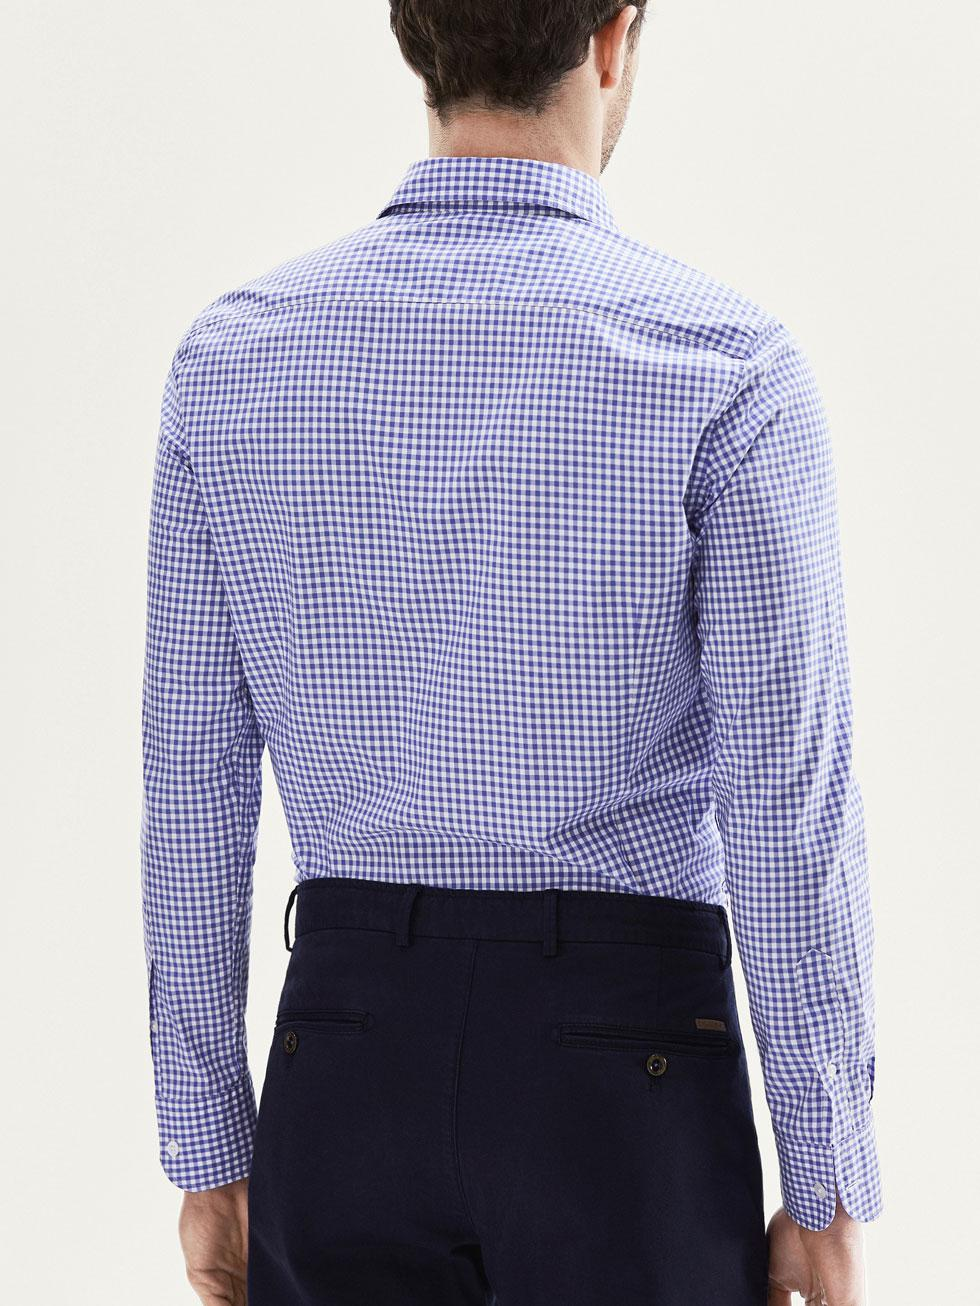teeshirt: (107, 153, 887, 1237)
